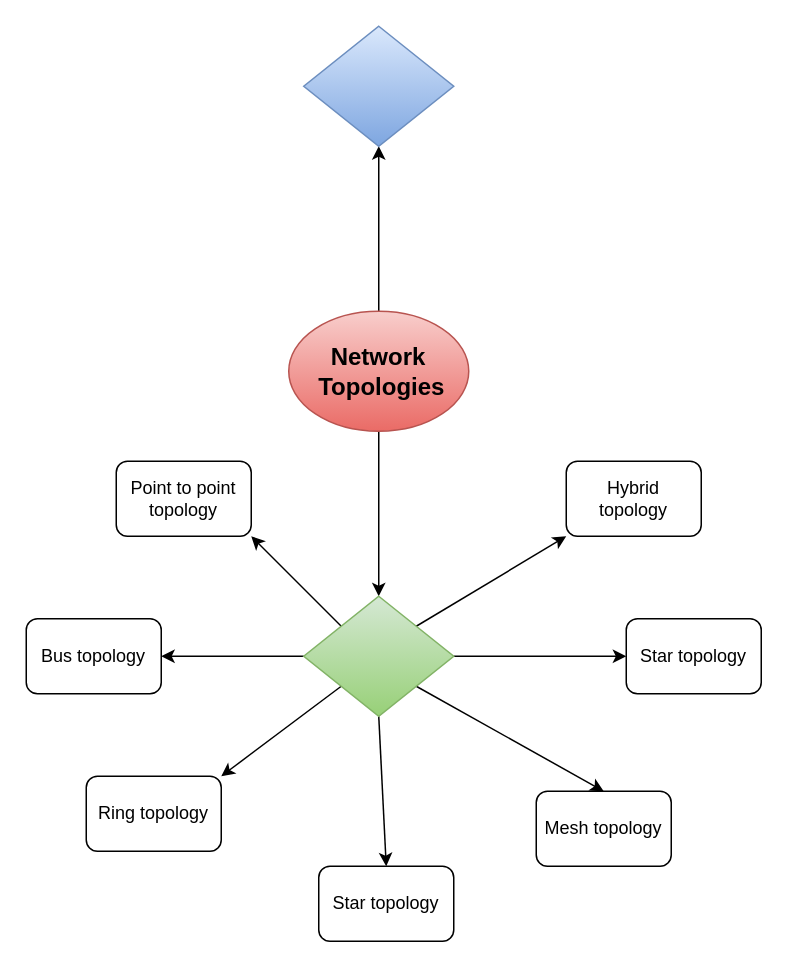
Some shapes in this 788 by 968 pixel diagram are drawn without their labels. Each missing label, with the box of its shape:
Physical Topologies: (302, 25, 454, 146)
Virtual Topologies: (302, 595, 454, 716)
